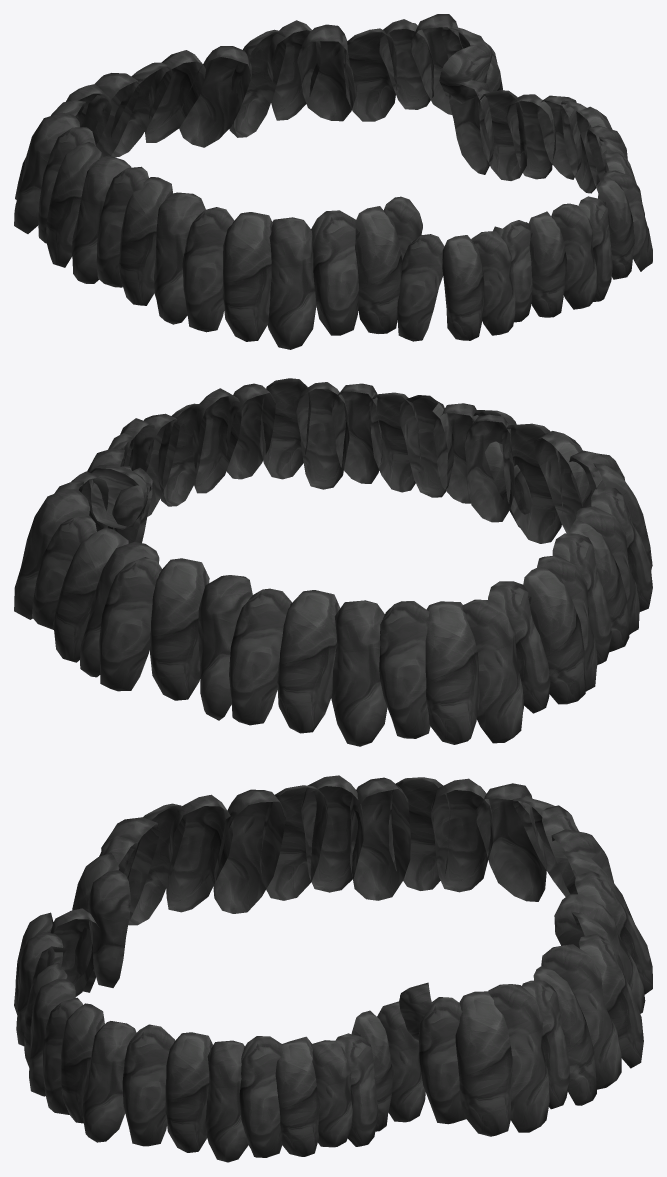
File: RCIMainLowBorderShape.dae
The picture shows the model from 3 angles, top to bottom: view 1: azimuth 30°, elevation 25°; view 2: azimuth 150°, elevation 25°; view 3: azimuth 270°, elevation 25°; orthographic projection. The views are drawn at different scales.
Parts seen in each view (by area): view 1: RCIMainLowBorder; view 2: RCIMainLowBorder; view 3: RCIMainLowBorder.
Boxes of the visible parts, x1=… form: RCIMainLowBorder: x1=14, y1=14, x2=652, y2=349; RCIMainLowBorder: x1=14, y1=378, x2=652, y2=746; RCIMainLowBorder: x1=14, y1=775, x2=652, y2=1162.
Size of the model in its own units: 198 by 49.69 by 193.
